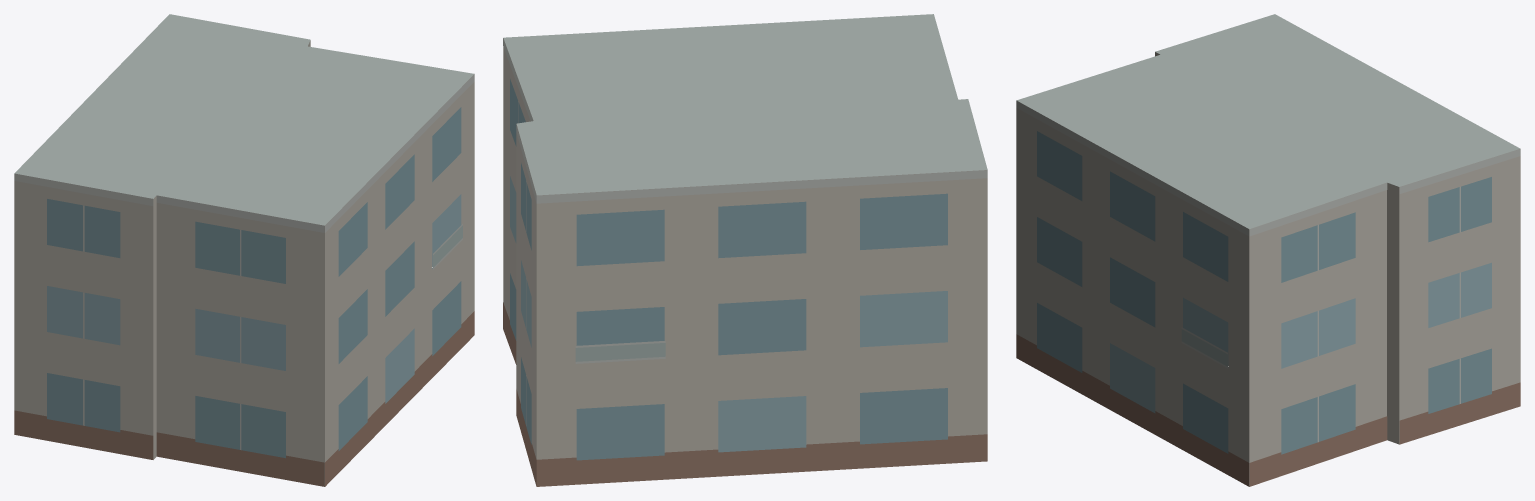
Rendered from survey-upis-32977358.glb.
3 renders of one model, left to right at view 1: azimuth 30°, elevation 25°; view 2: azimuth 150°, elevation 25°; view 3: azimuth 270°, elevation 25°, orthographic. The views are drawn at different scales.
Parts seen in each view (by area): view 1: survey-upis-32977358.tmp; view 2: survey-upis-32977358.tmp; view 3: survey-upis-32977358.tmp.
Boxes of the visible parts, x1,y1,x2,y2 form: survey-upis-32977358.tmp: (14,14,474,486); survey-upis-32977358.tmp: (503,14,987,486); survey-upis-32977358.tmp: (1016,14,1520,486).
Size of the model in its own units: 15.42 by 8.6 by 15.26.
